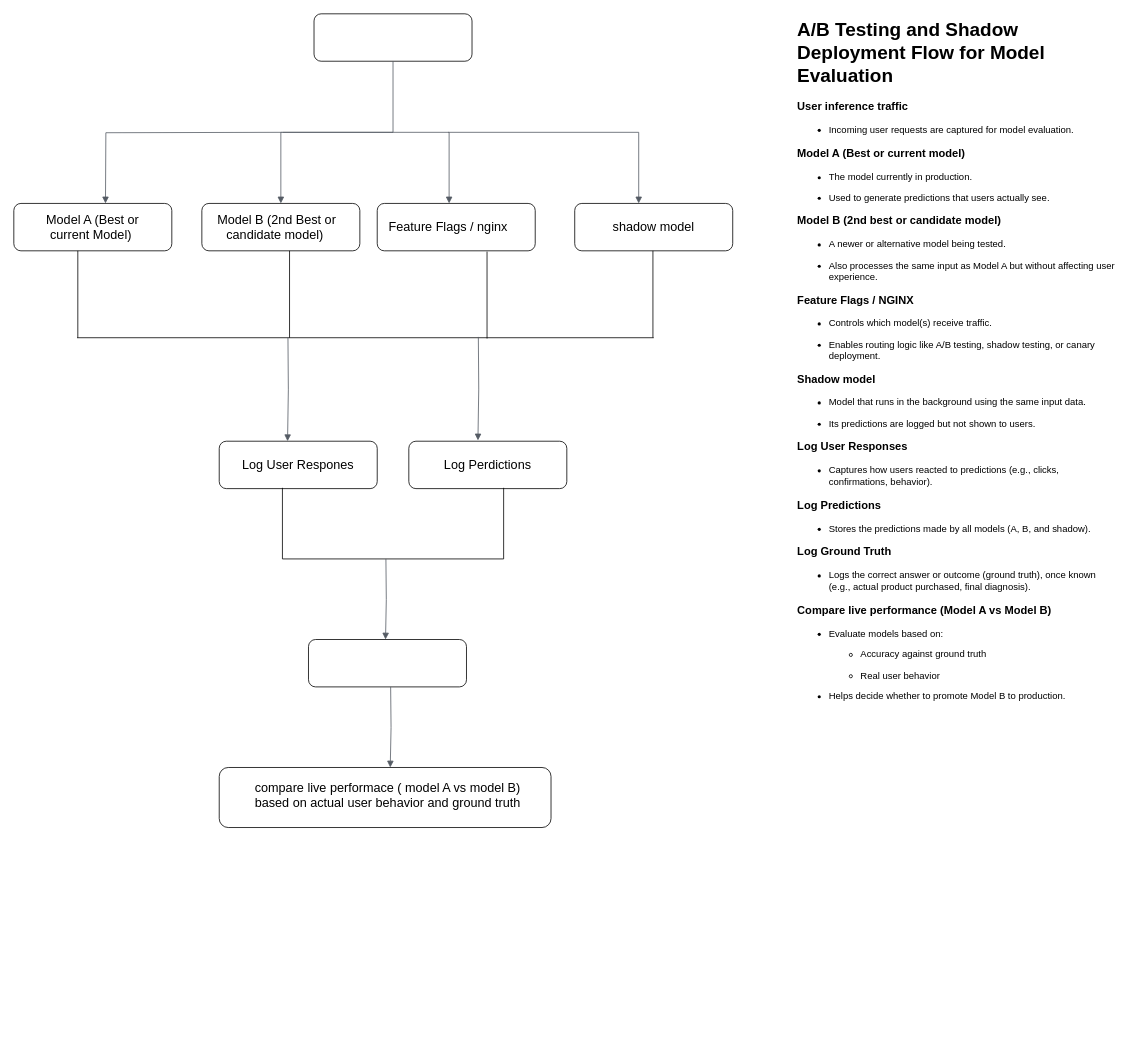
This 1134x1057 diagram has some shape labels left out. The shapes that lost their labels are listed below. From the top down, each one's centre as x and y in pixels, then its label:
At (x=392, y=37): "User inference traffic".
At (x=387, y=663): "Log Ground truth".
